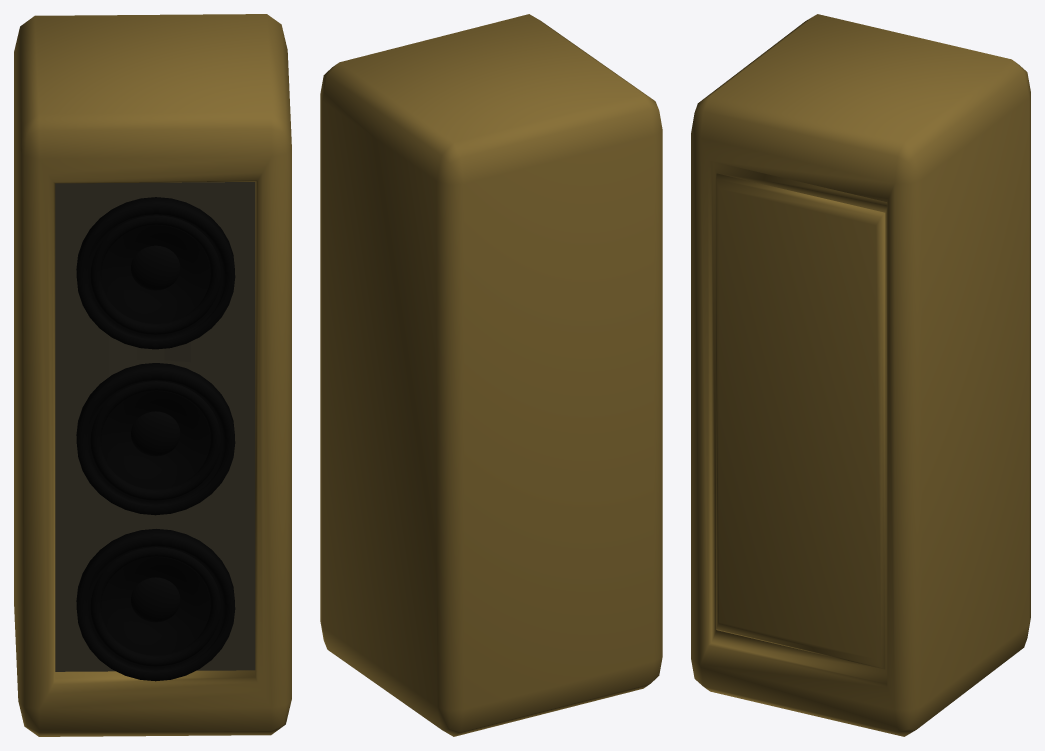
Rendered from SYSTEMESON3.fbx.
The picture shows the model from 3 angles, left to right: view 1: azimuth 30°, elevation 25°; view 2: azimuth 150°, elevation 25°; view 3: azimuth 270°, elevation 25°; orthographic projection. The views are drawn at different scales.
Visible parts, largest first — view 1: Plane.013; view 2: Plane.013; view 3: Plane.013.
Boxes of the visible parts, <box> form: Plane.013: <box>14,14,291,736</box>; Plane.013: <box>320,14,662,736</box>; Plane.013: <box>691,14,1030,736</box>.
Size of the model in its own units: 1329 by 2569 by 1329.
